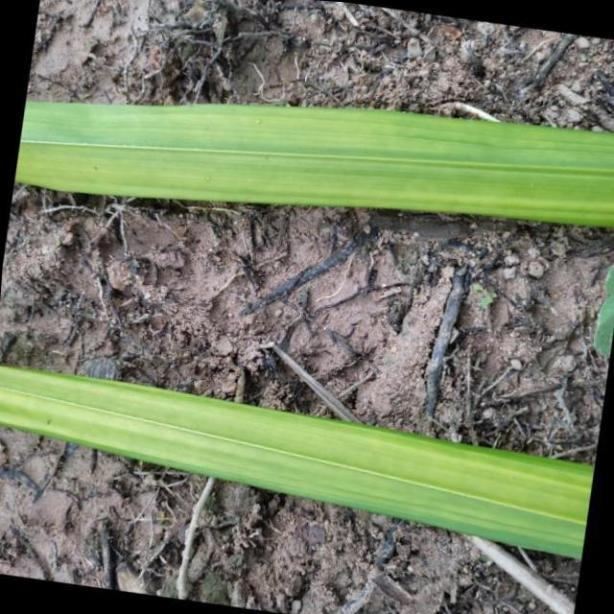nitrogen: (0, 363, 588, 567), (14, 98, 614, 222)
